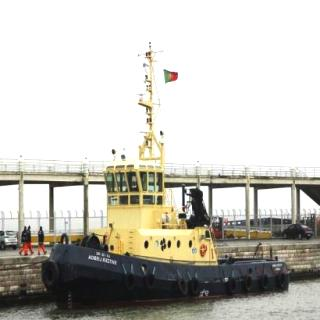Tug Boat: (32, 62, 298, 299)
